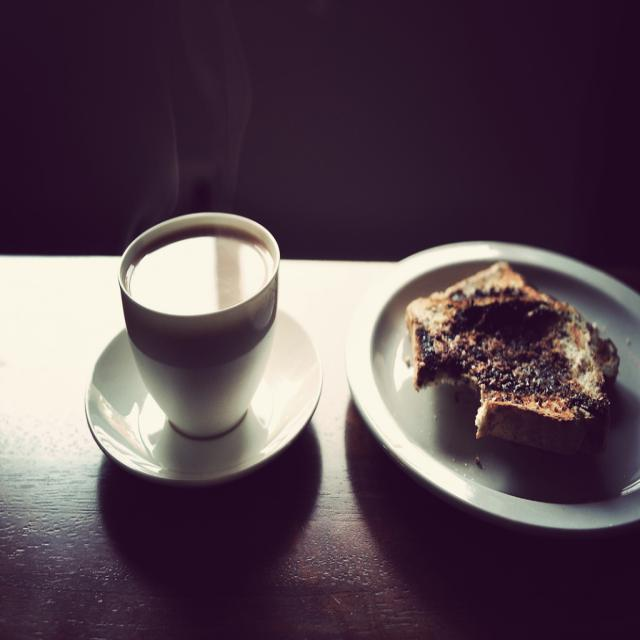Coffee: (124, 229, 275, 314)
Tea: (125, 225, 274, 313)
